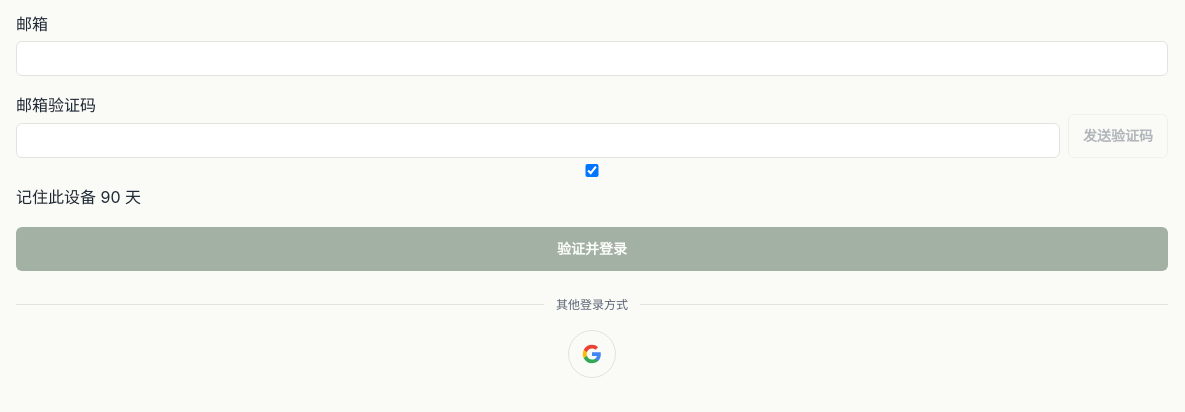
Test: does not render an unavailable Apple login and preserves the return destination
The image size is (1185, 412).
Step 1. Click the button named "使用 Google 继续" → coordinates (592, 354), box [568, 330, 616, 378]
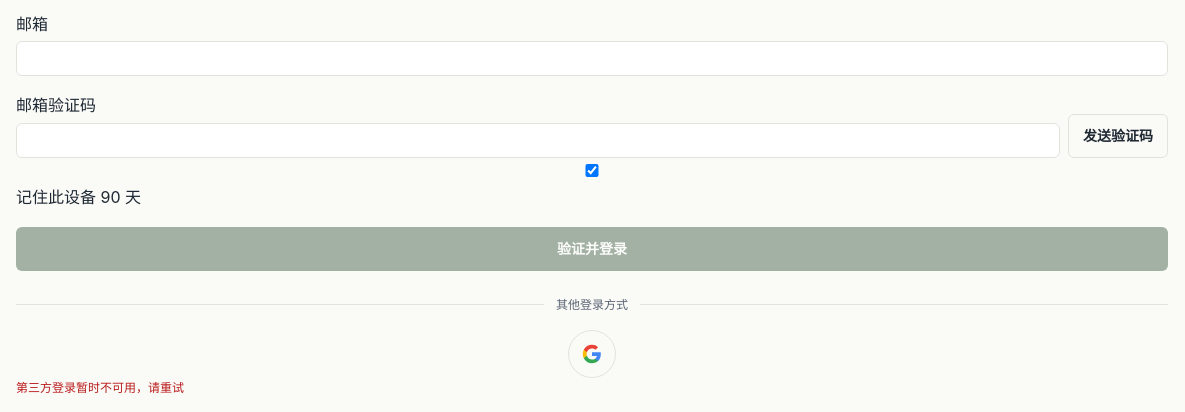
Expected: the message "第三方登录暂时不可用，请重试" is shown, [16, 380, 184, 395]
